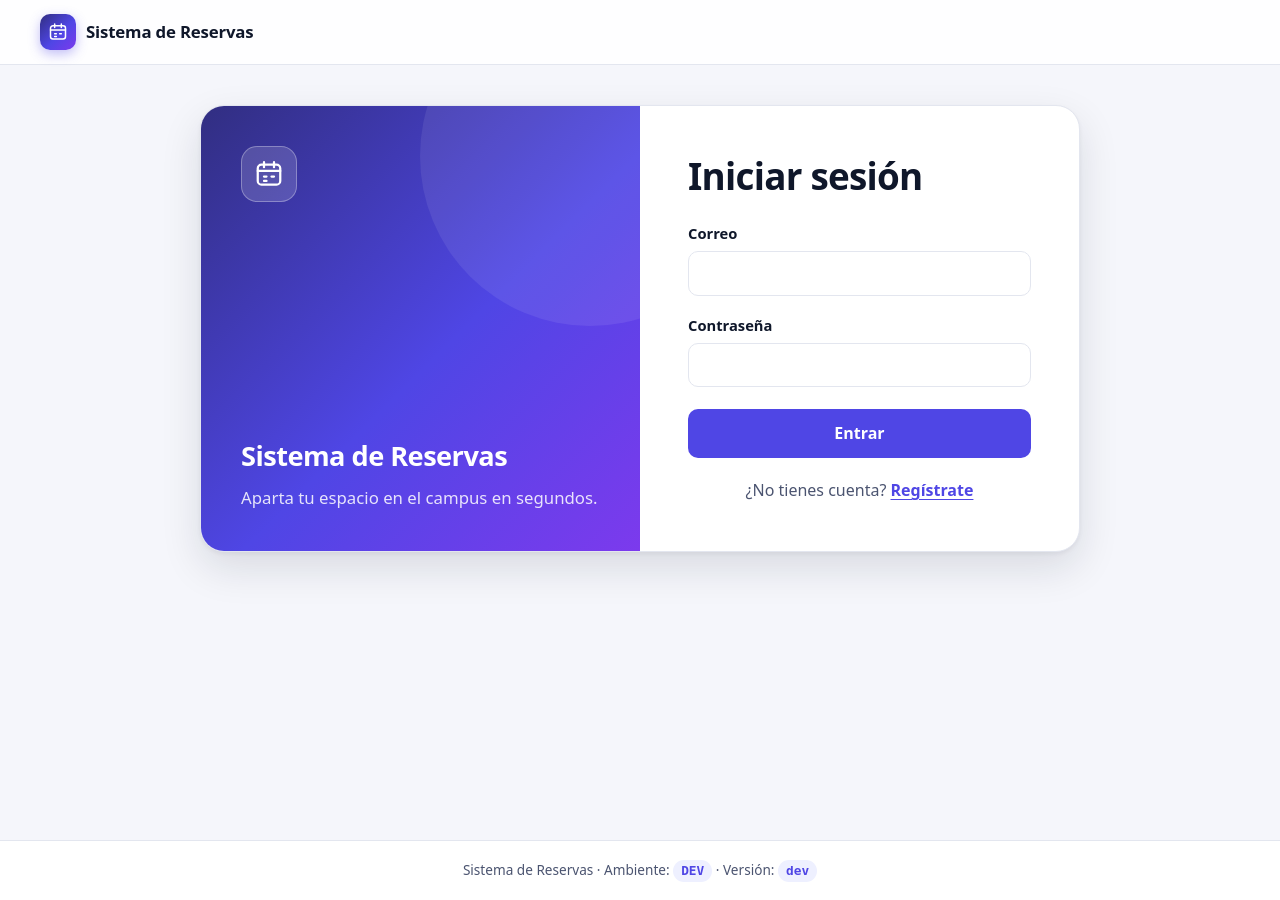
Test: login regresa a mis reservas; usa URL runtime y Bearer al listar y cancelar
Type "prueba@example.com" into the field labelled "Correo". click: coordinates (860, 273)
box: [688, 251, 1031, 296]
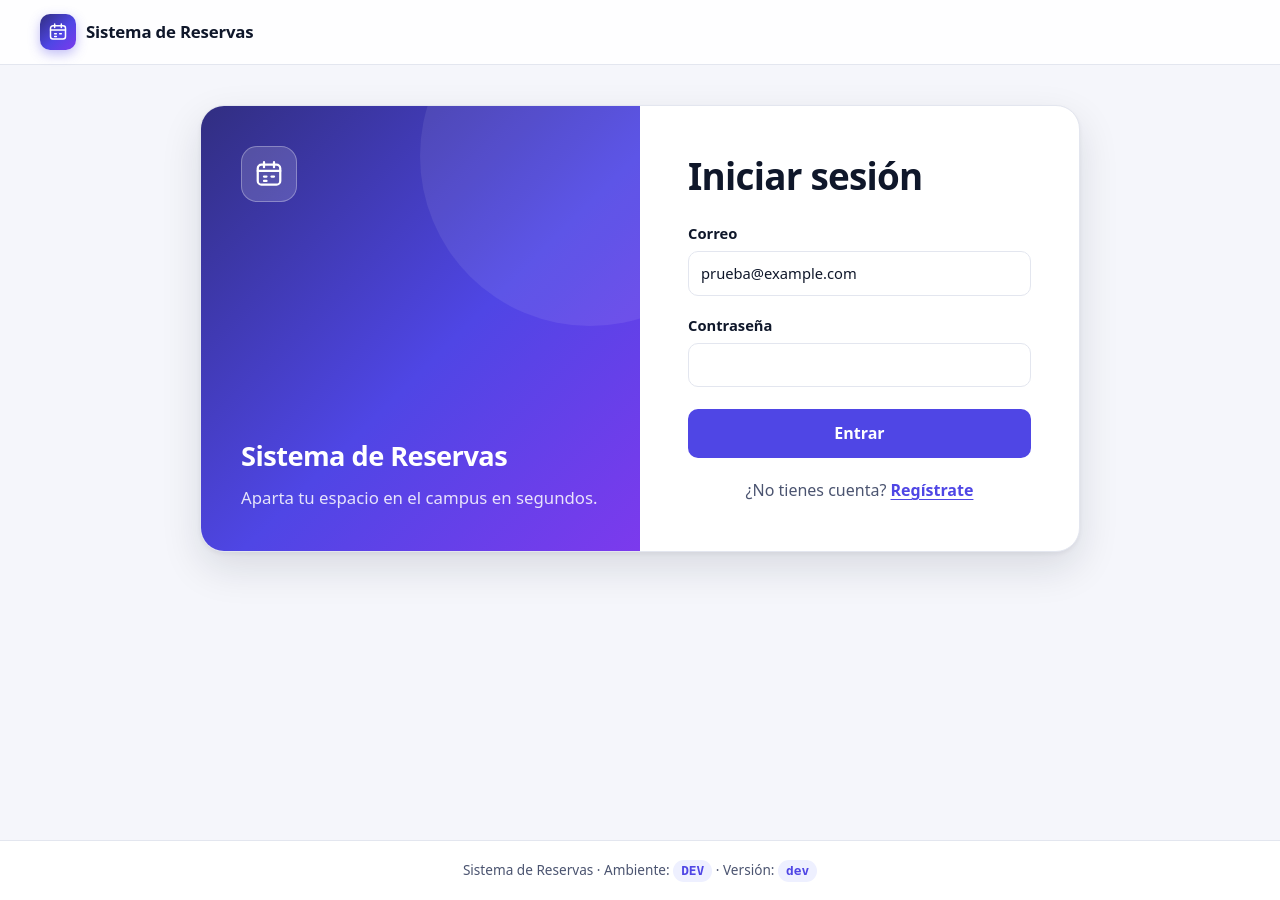
Type "ClavePrueba123!" into the password field labelled "Contraseña". click: coordinates (860, 365)
box: [688, 343, 1031, 387]
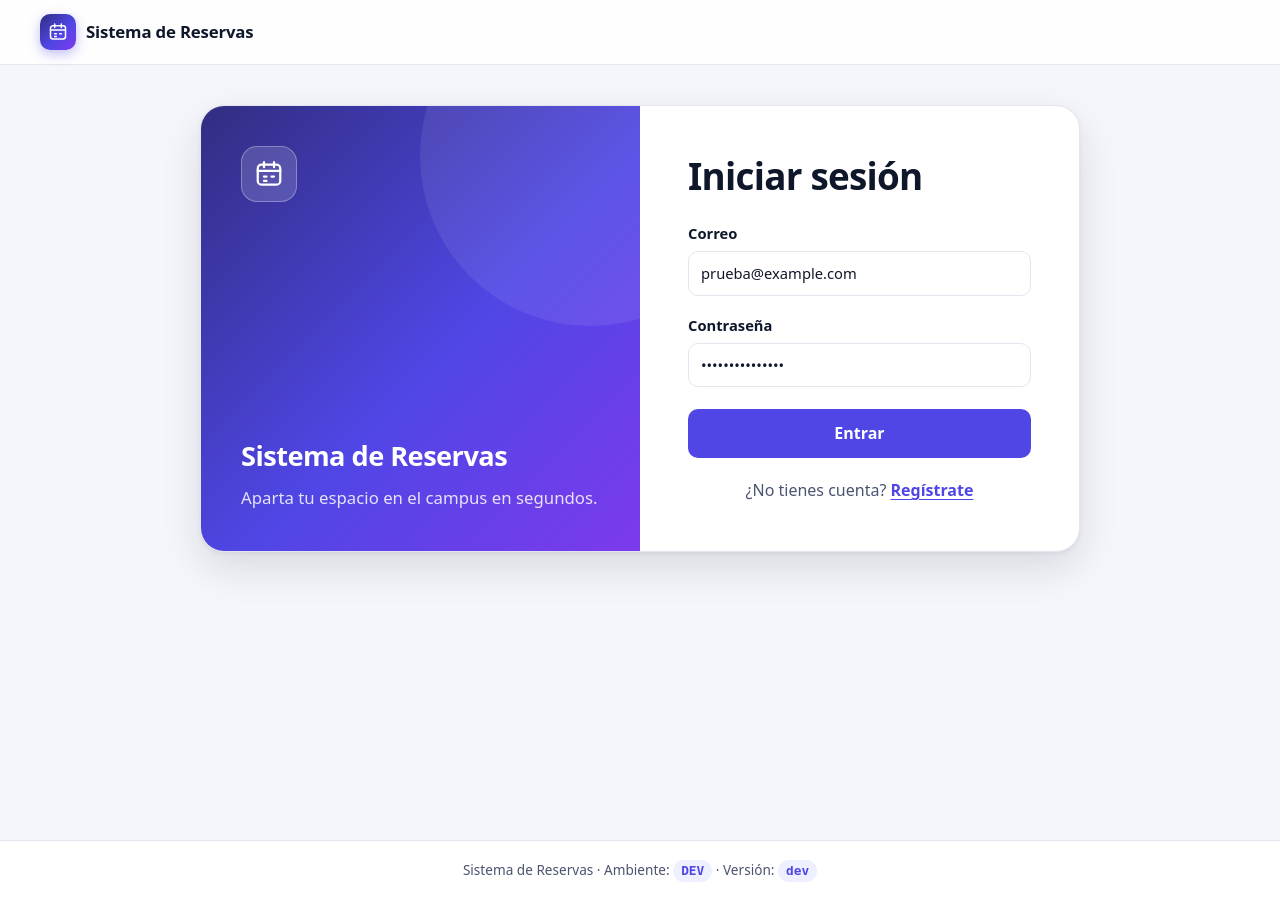
Click the button "Entrar". click: coordinates (860, 434)
box: [688, 409, 1031, 458]
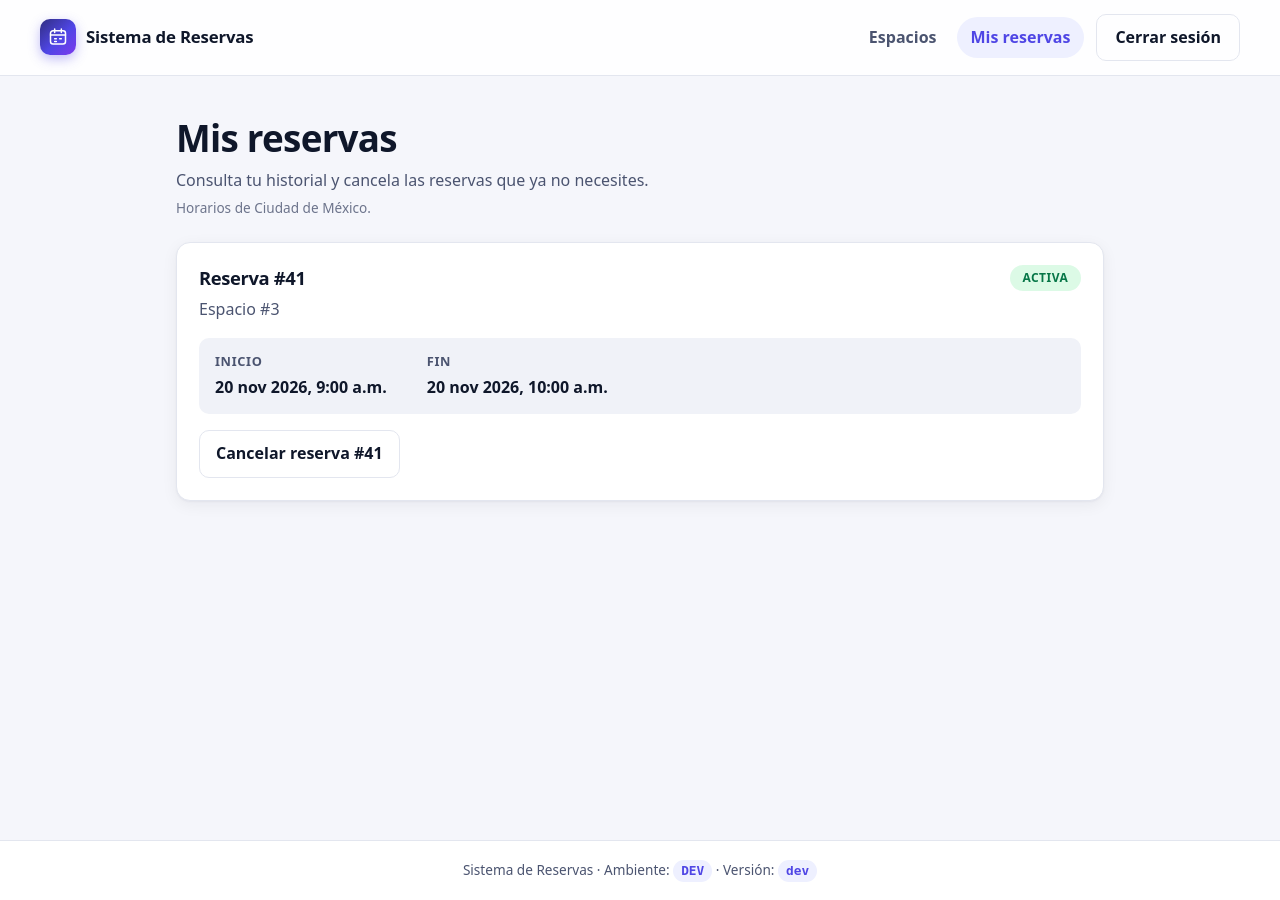
Click the button "Cancelar reserva #41". click: coordinates (299, 454)
box: [199, 430, 400, 478]
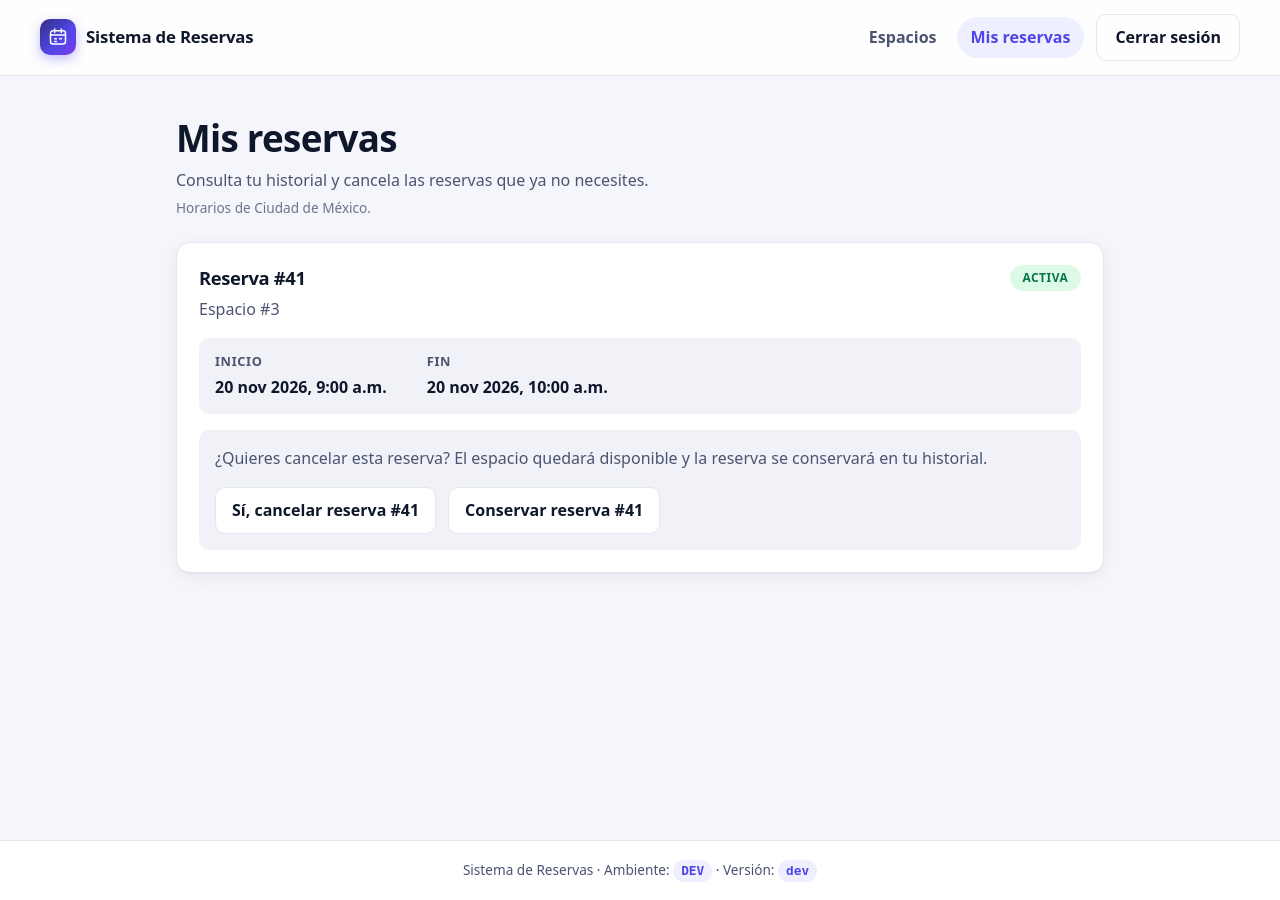
Click the button "Sí, cancelar reserva #41". click: coordinates (326, 511)
box: [215, 487, 436, 534]
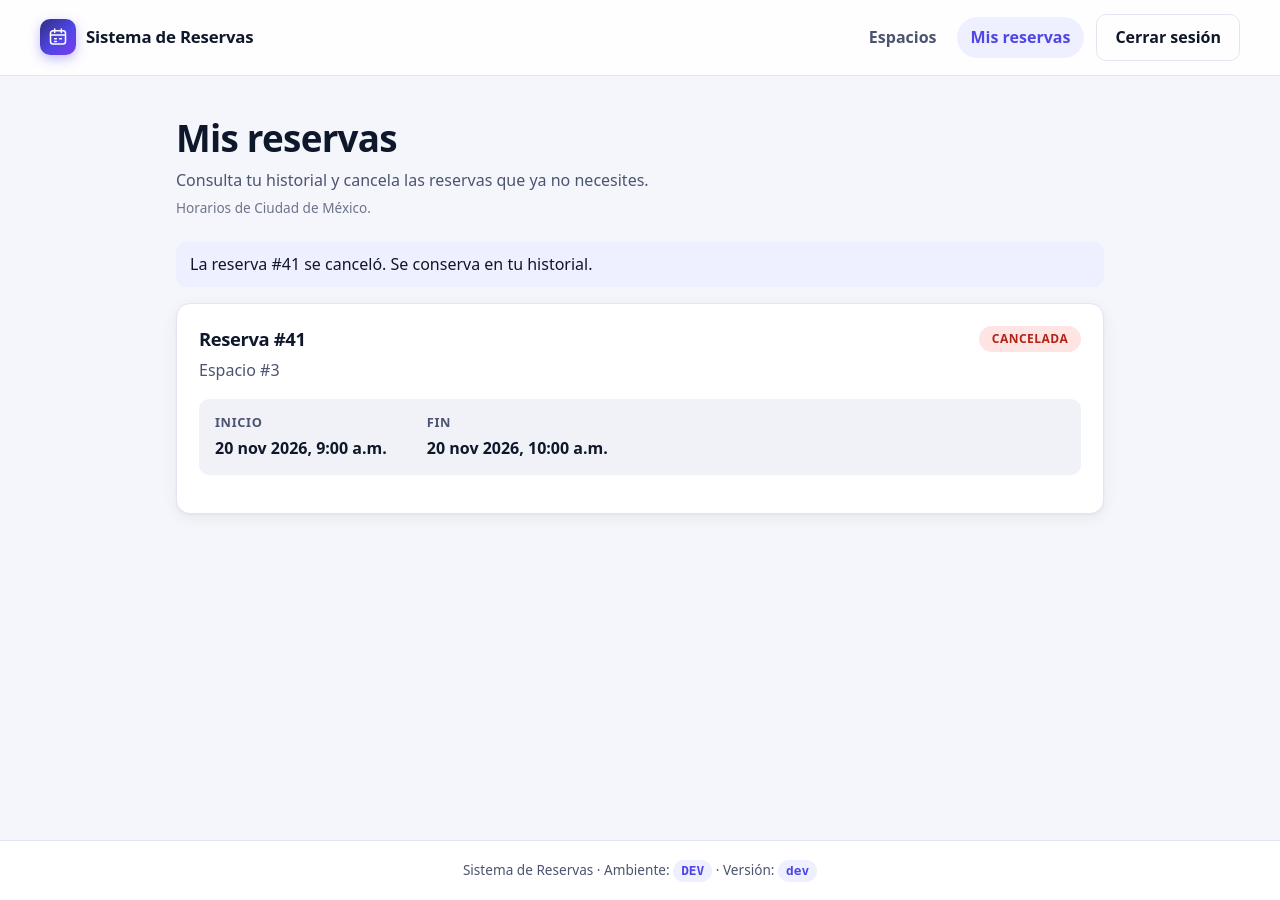
Now the heading "Reserva #41" is shown, box [199, 328, 306, 350]
Now the text "CANCELADA" is shown, box [979, 326, 1081, 352]
